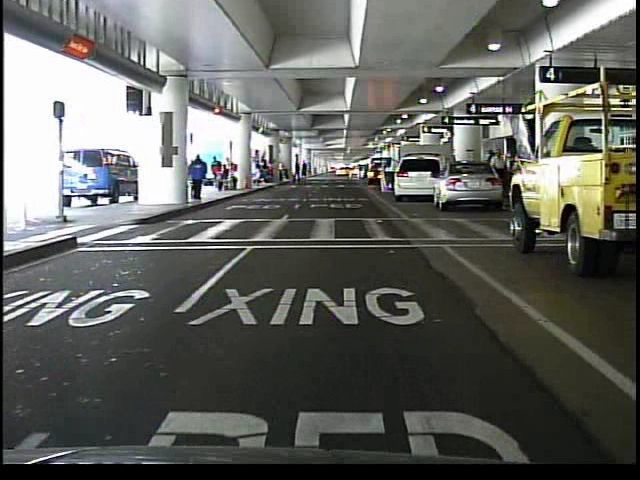person: (186, 152, 210, 204)
